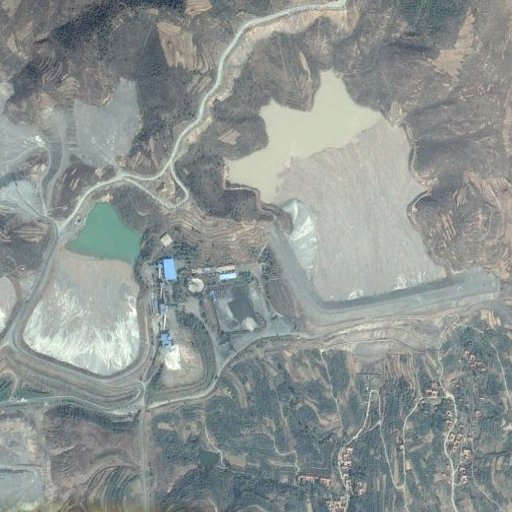tp: (218, 75, 501, 319), (13, 204, 154, 402)
